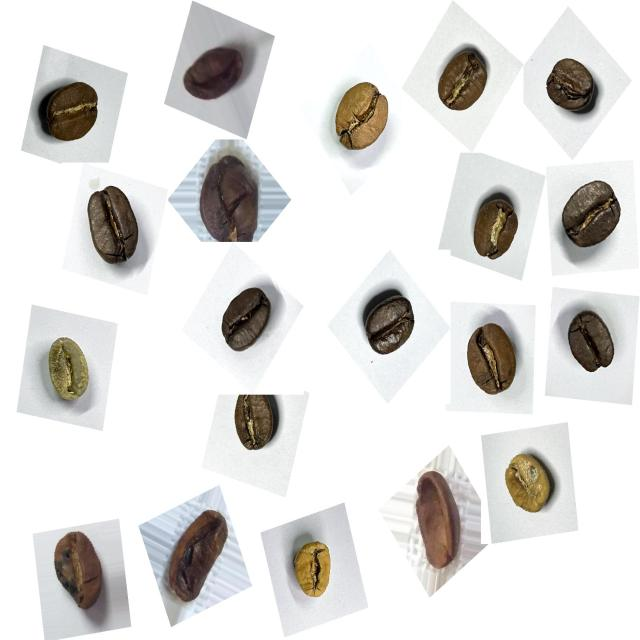bad: (158, 498, 238, 615), (186, 143, 268, 254), (401, 456, 473, 574), (43, 521, 114, 623), (178, 32, 252, 114)
dark: (547, 167, 630, 265), (78, 175, 155, 276), (352, 282, 425, 372), (208, 278, 278, 367), (532, 43, 604, 125), (557, 300, 623, 387)
green: (35, 327, 102, 415)
light: (322, 71, 399, 166), (281, 525, 350, 612), (497, 441, 565, 527)
medium: (452, 314, 530, 410), (36, 70, 110, 156), (428, 39, 500, 124), (462, 184, 530, 270), (226, 387, 288, 463)
